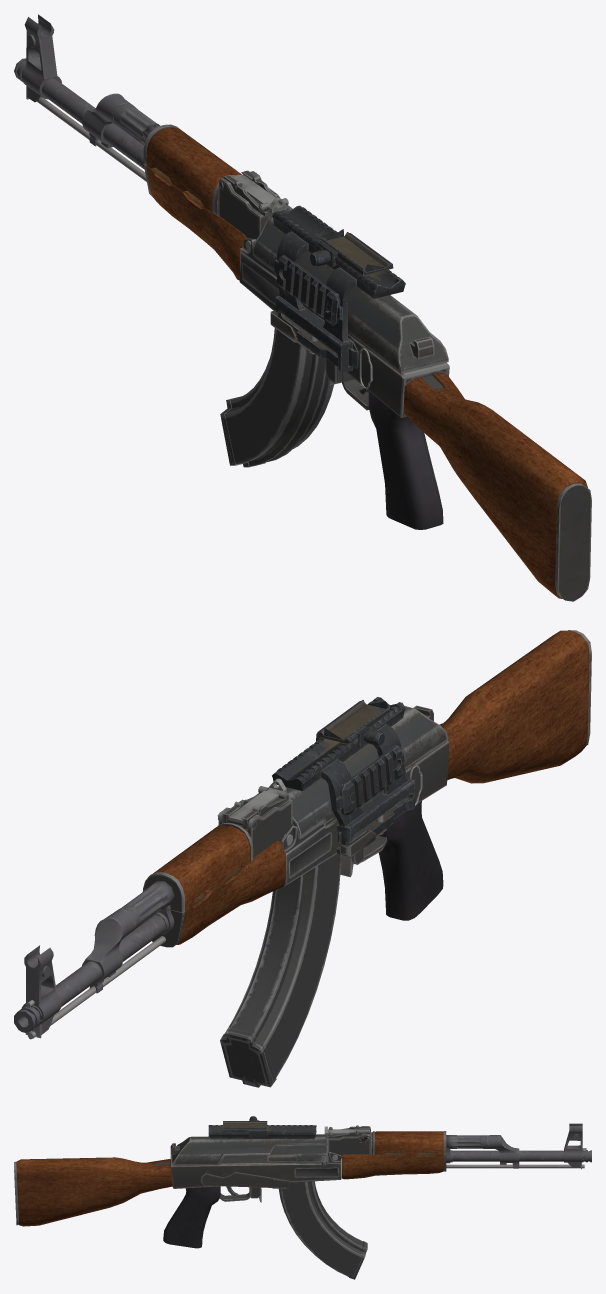
3 views of the same model, one above another, from view 1: azimuth 30°, elevation 25°; view 2: azimuth 150°, elevation 25°; view 3: azimuth 270°, elevation 25° (orthographic). The views are drawn at different scales.
Parts seen in each view (by area): view 1: handgrip_low_Material #37_0; view 2: handgrip_low_Material #37_0; view 3: handgrip_low_Material #37_0.
Part boxes in pixels (x1,y1,x2,y2): handgrip_low_Material #37_0: (14,14,591,601); handgrip_low_Material #37_0: (14,630,591,1087); handgrip_low_Material #37_0: (14,1116,591,1279).
Bounding box in the file's own units: 0.0785 × 0.2595 × 0.88.
Materials: 1 (1 with a texture image).
